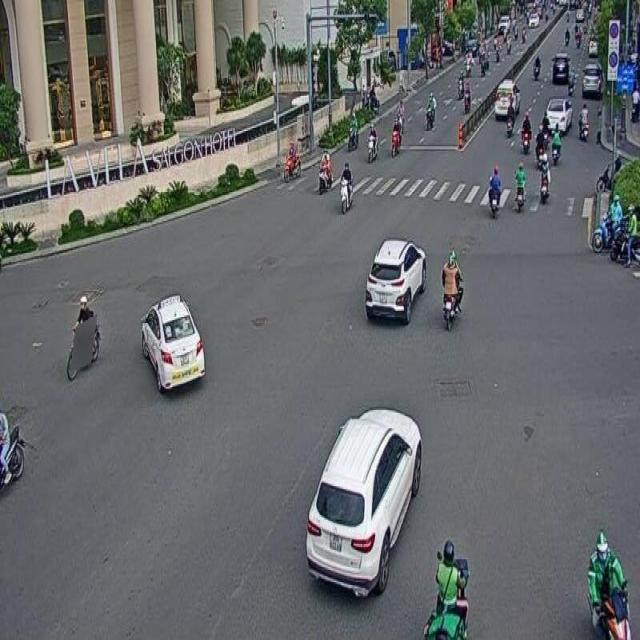car: (306, 408, 421, 596), (140, 292, 204, 394), (364, 238, 426, 326)
motorcycle: (66, 294, 100, 381), (0, 413, 26, 489), (441, 248, 463, 331), (339, 160, 353, 213), (488, 163, 501, 218), (318, 146, 332, 195), (514, 160, 526, 215)
